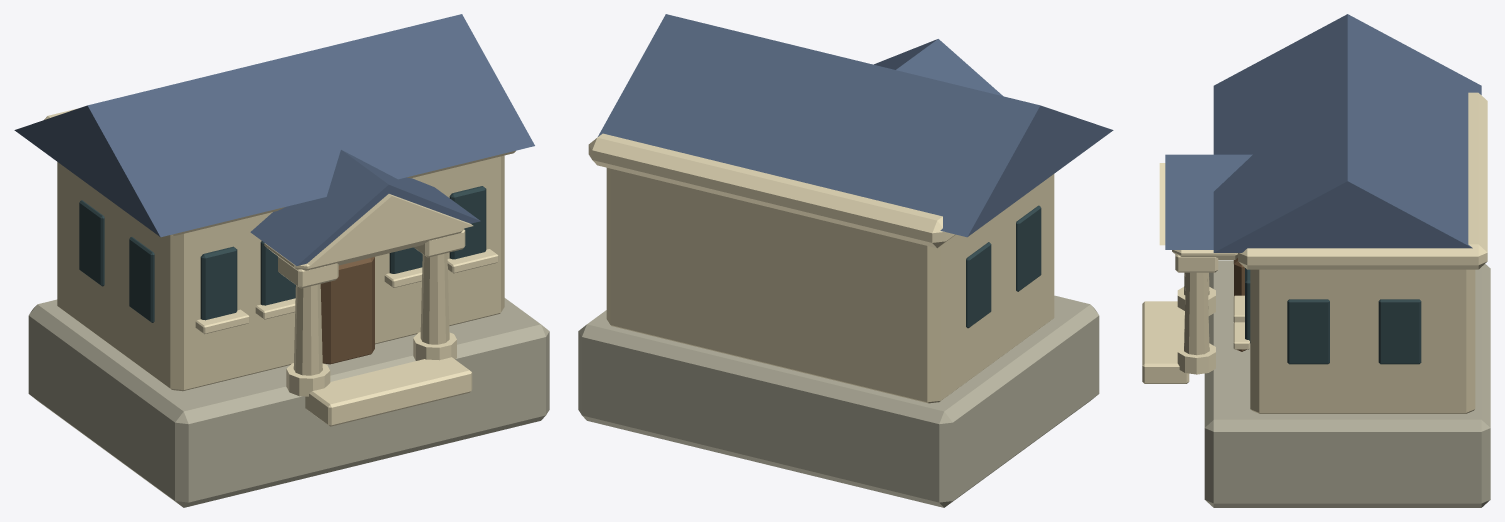
The model's file is ns-great-archive.glb.
3 renders of one model, left to right at view 1: azimuth 30°, elevation 25°; view 2: azimuth 150°, elevation 25°; view 3: azimuth 270°, elevation 25°, orthographic. The views are drawn at different scales.
Parts seen in each view (by area): view 1: Pitched roof, Cube, Cube.001, Pitched roof.001, Cube.015, Cube.011, Pitched roof.002, Cube.003, Tapered form.003, Tapered form.001, Cube.017, Cube.016 (+11 smaller); view 2: Cube.001, Pitched roof, Cube, Cube.002, Pitched roof.001, Cube.017, Cube.016; view 3: Pitched roof, Cube, Cube.001, Cube.002, Pitched roof.001, Cube.015, Cube.019, Cube.018, Tapered form.003, Tapered form.002, Cube.013, Pitched roof.002 (+3 smaller).
Boxes of the visible parts, x1,y1,x2,y2 form: Pitched roof: (14, 14, 534, 237); Cube: (28, 298, 549, 507); Cube.001: (57, 155, 504, 391); Pitched roof.001: (250, 150, 480, 265); Cube.015: (305, 357, 472, 426); Cube.011: (320, 257, 374, 364); Pitched roof.002: (307, 194, 473, 265); Cube.003: (200, 246, 237, 320); Tapered form.003: (420, 253, 449, 344); Tapered form.001: (293, 284, 322, 375); Cube.017: (79, 200, 104, 286); Cube.016: (129, 237, 154, 322); Cube.001: (606, 168, 1054, 403); Pitched roof: (598, 14, 1113, 237); Cube: (578, 295, 1099, 507); Cube.002: (588, 133, 955, 248); Pitched roof.001: (874, 39, 1002, 95); Cube.017: (966, 242, 991, 328); Cube.016: (1016, 205, 1041, 291); Pitched roof: (1213, 14, 1481, 252); Cube: (1204, 260, 1490, 507); Cube.001: (1250, 269, 1475, 413); Cube.002: (1238, 92, 1487, 269); Pitched roof.001: (1165, 154, 1252, 249); Cube.015: (1142, 301, 1189, 383); Cube.019: (1378, 299, 1421, 364); Cube.018: (1287, 299, 1329, 364); Tapered form.003: (1184, 272, 1209, 355); Tapered form.002: (1177, 343, 1215, 374); Cube.013: (1175, 254, 1218, 272); Pitched roof.002: (1159, 163, 1165, 245).
Bounding box in the file's own units: 0.675 × 0.588 × 0.5725.
